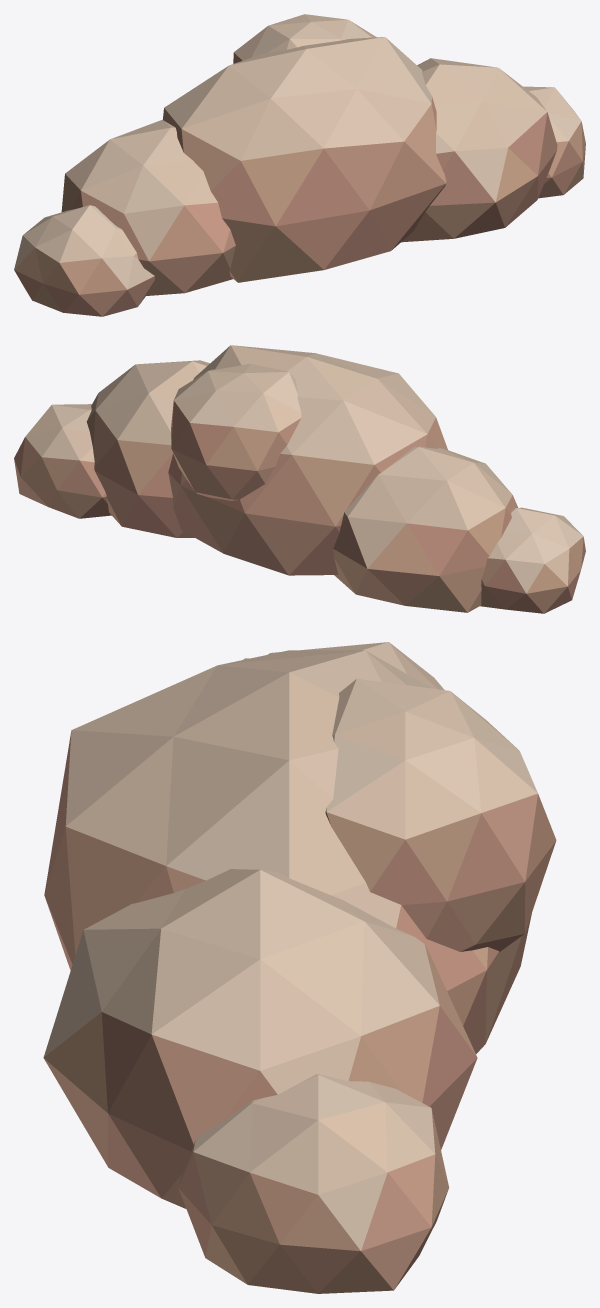
The model's file is cloud_a.glb.
3 views of the same model, one above another, from view 1: azimuth 30°, elevation 25°; view 2: azimuth 150°, elevation 25°; view 3: azimuth 270°, elevation 25° (orthographic). The views are drawn at different scales.
Parts seen in each view (by area): view 1: cloud_a; view 2: cloud_a; view 3: cloud_a.
Part boxes in pixels (x1,y1,x2,y2): cloud_a: (14, 14, 585, 316); cloud_a: (14, 345, 585, 613); cloud_a: (43, 642, 556, 1293).
Bounding box in the file's own units: 13.04 × 4.14 × 5.3.
